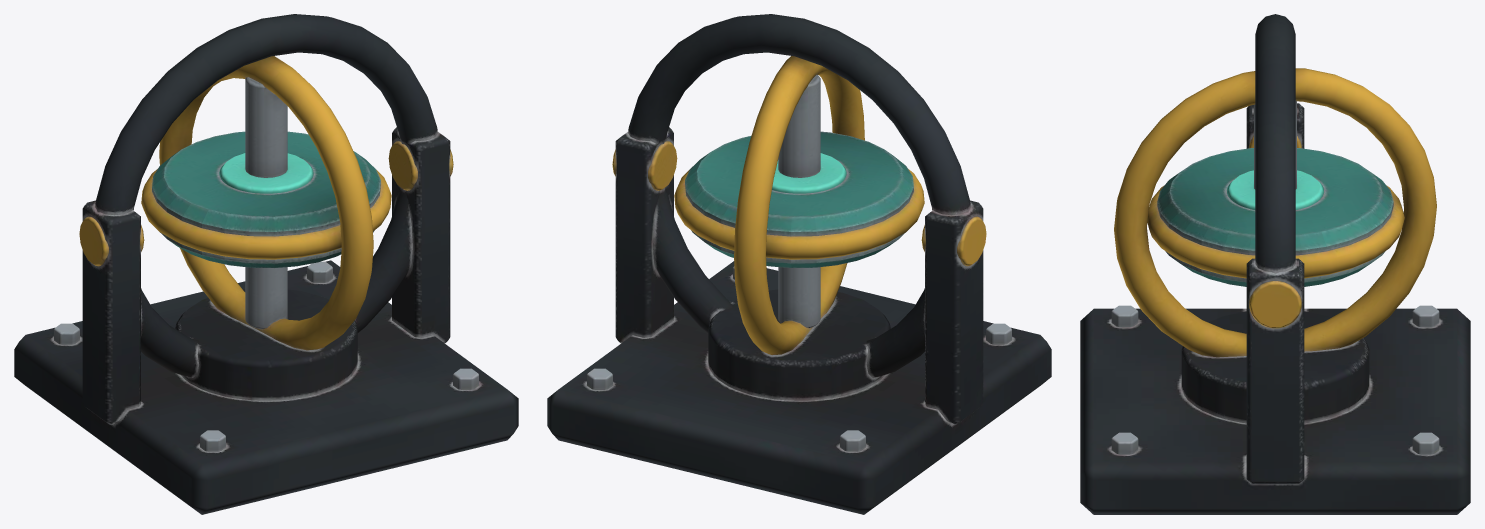
The model's file is gyro-v001.glb.
3 renders of one model, left to right at view 1: azimuth 30°, elevation 25°; view 2: azimuth 150°, elevation 25°; view 3: azimuth 270°, elevation 25°, orthographic. The views are drawn at different scales.
Parts seen in each view (by area): view 1: Gyro; view 2: Gyro; view 3: Gyro.
Part boxes in pixels (left/top/right/bottom): Gyro: left=14, top=14, right=518, bottom=514; Gyro: left=547, top=14, right=1051, bottom=514; Gyro: left=1080, top=14, right=1470, bottom=514.
Bounding box in the file's own units: 0.375 × 0.401 × 0.35.
Materials: 1 (1 with a texture image).
